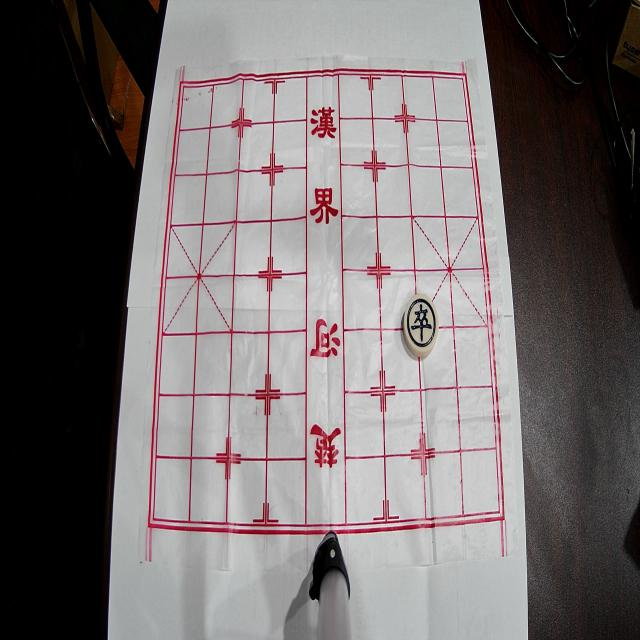black-soldier: (403, 294, 439, 357)
